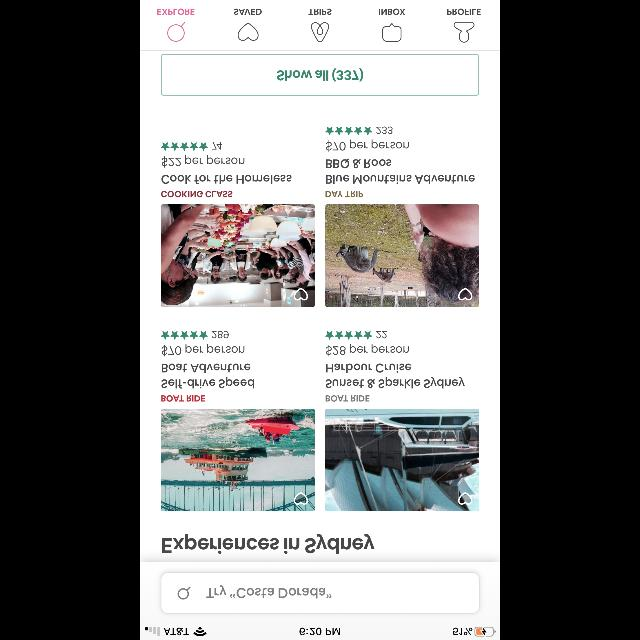icon: (326, 330, 372, 340), (454, 22, 474, 42), (326, 127, 372, 135), (162, 143, 208, 151), (162, 331, 208, 339), (382, 23, 402, 41), (238, 23, 258, 41), (167, 22, 185, 42), (458, 288, 472, 300), (294, 288, 308, 300), (294, 492, 308, 504), (458, 492, 472, 504), (178, 586, 190, 600)
image: (326, 205, 478, 307), (162, 205, 314, 307), (326, 409, 478, 511), (162, 409, 314, 511), (311, 22, 329, 42)
input: (161, 572, 479, 614)
text: (163, 534, 375, 554), (206, 584, 332, 598), (326, 377, 464, 388), (326, 176, 474, 184), (162, 174, 292, 183), (162, 154, 244, 168), (162, 377, 255, 389), (162, 344, 245, 356), (327, 140, 409, 152), (327, 344, 409, 356), (162, 363, 250, 372), (326, 363, 412, 372), (326, 158, 392, 168), (162, 190, 232, 198), (326, 395, 370, 401), (161, 395, 205, 401), (158, 9, 195, 15), (326, 191, 362, 197), (448, 9, 480, 15), (234, 9, 262, 15), (379, 9, 405, 15), (308, 9, 332, 15), (212, 330, 230, 338), (376, 126, 392, 134), (212, 142, 222, 150), (377, 332, 388, 338)
textbutton: (162, 54, 478, 96)
uppertaskbar: (140, 626, 500, 640)
